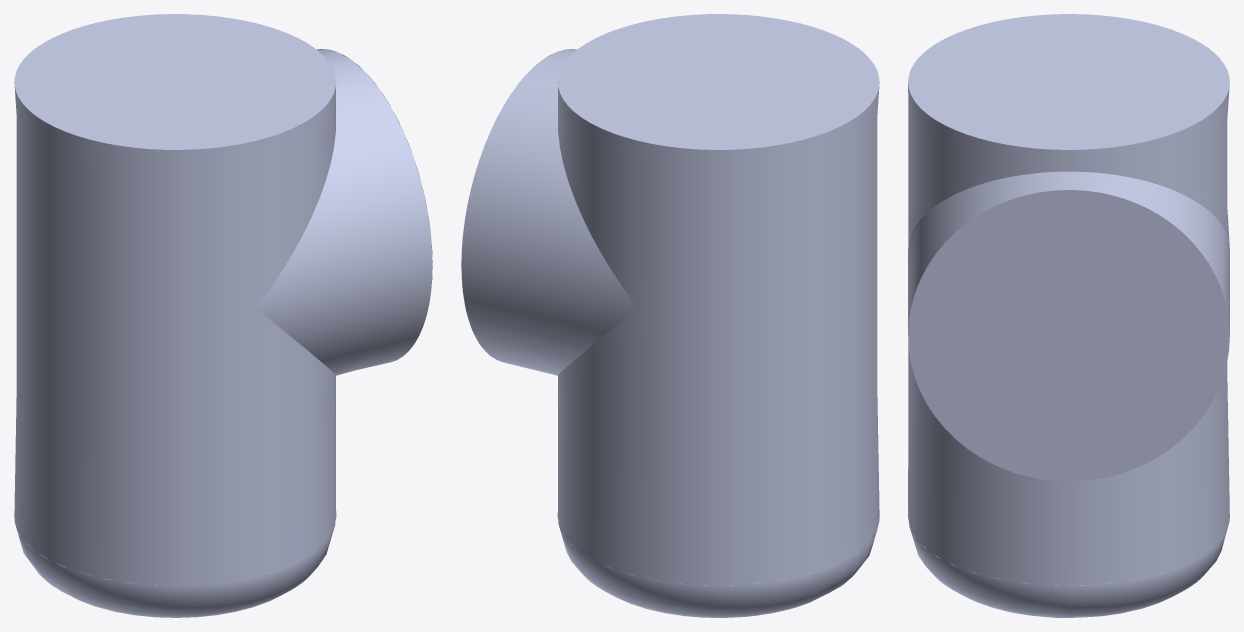
Rendered from joint_j20.glb.
The picture shows the model from 3 angles, left to right: view 1: azimuth 30°, elevation 25°; view 2: azimuth 150°, elevation 25°; view 3: azimuth 270°, elevation 25°; orthographic projection.
Visible parts, largest first — view 1: joint_j20.IGS (×6); view 2: joint_j20.IGS (×6); view 3: joint_j20.IGS (×7).
Boxes of the visible parts, box(x1,y1,x2,y2) form: joint_j20.IGS (×6): box(14, 14, 432, 617); joint_j20.IGS (×6): box(461, 14, 879, 617); joint_j20.IGS (×7): box(908, 14, 1229, 617).
Size of the model in its own units: 0.1305 by 0.1919 by 0.115.
